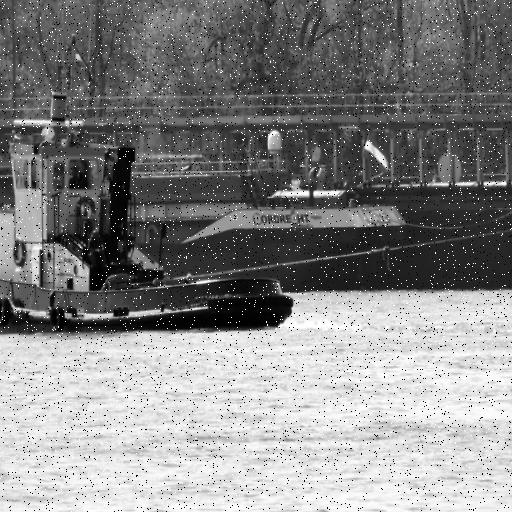tugboat: (1, 86, 298, 341)
